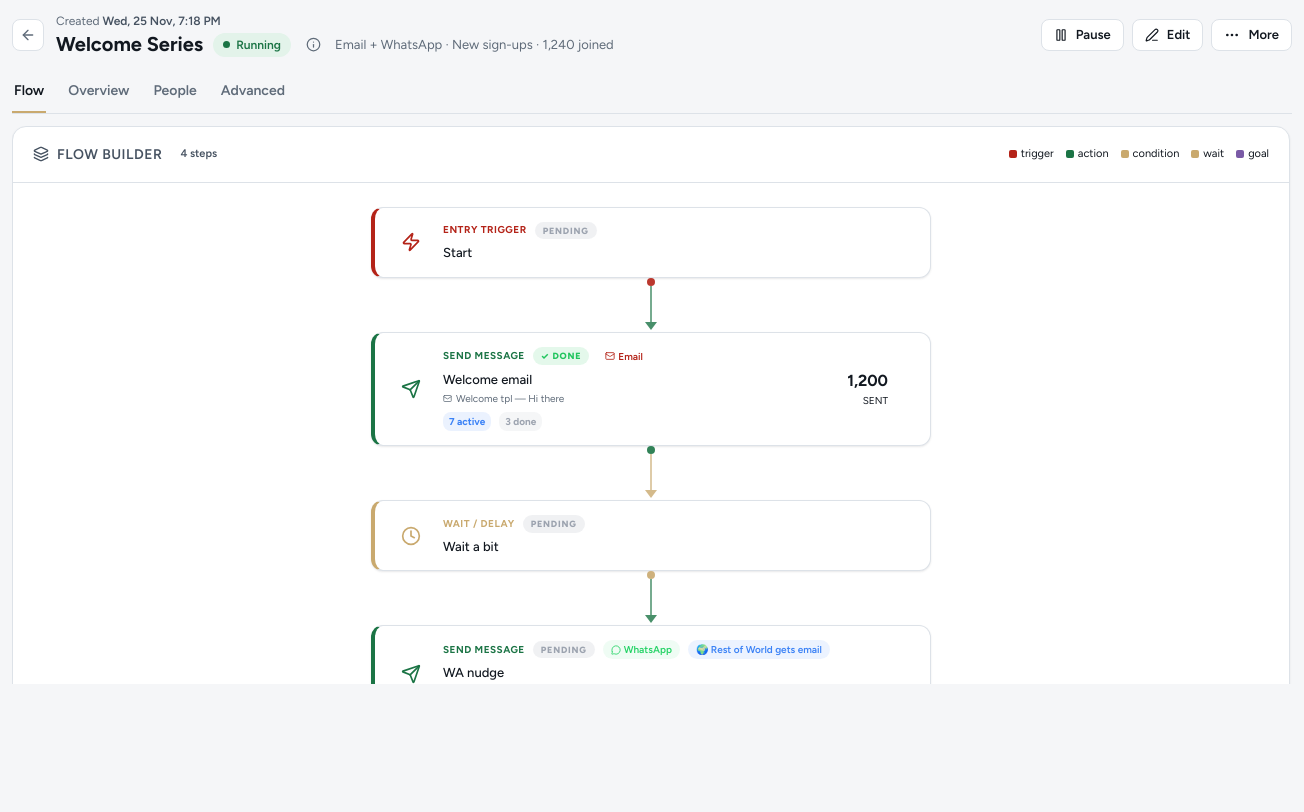
Test: Journey detail › Overview shows 4 KPI tiles from entryStats, with % of joined, and unsubscribed / failed on a thin line
expect the heading "Welcome Series" is shown: met, box x1=56 y1=32 x2=203 y2=57
Click the tab "Overview" at {"x": 99, "y": 91}, box x1=66 y1=69 x2=131 y2=113
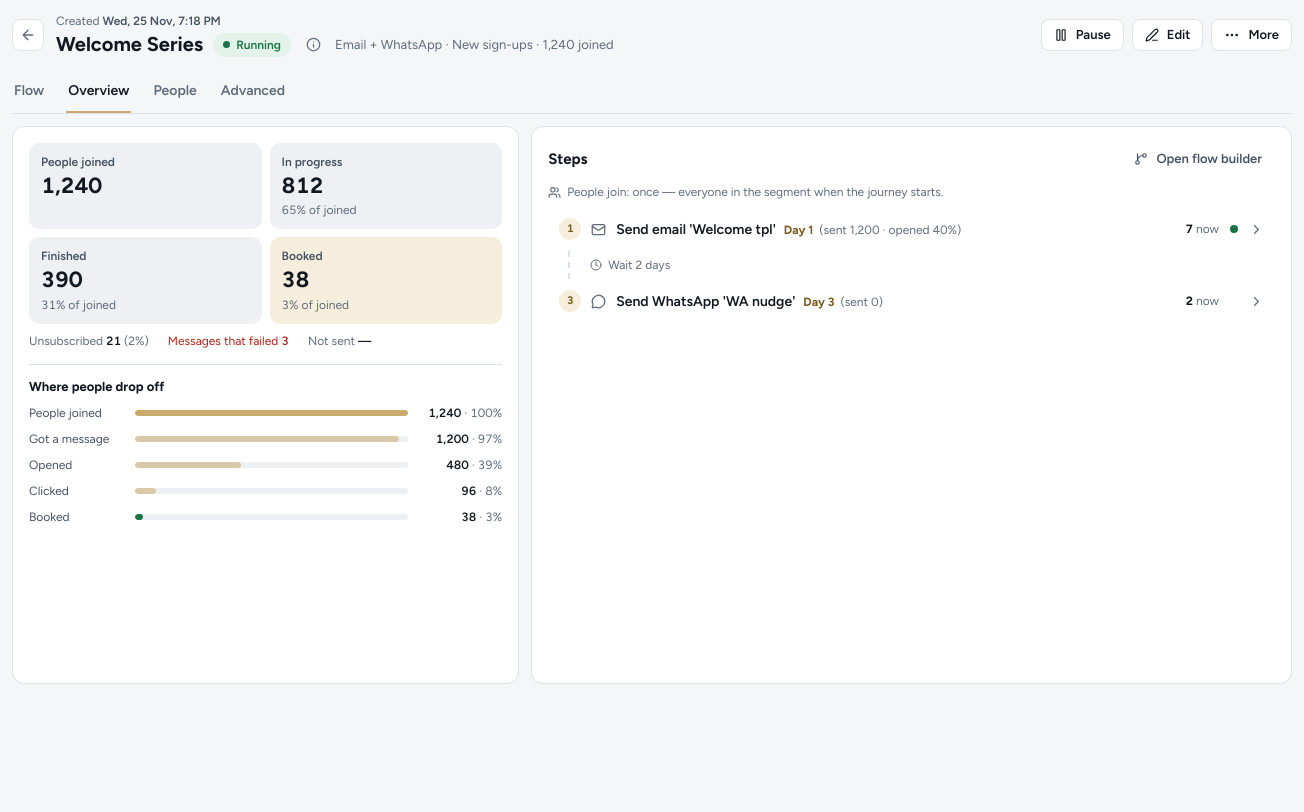
expect the text "1,240" is shown: met, box x1=41 y1=172 x2=102 y2=199
expect the text "812" is shown: met, box x1=282 y1=172 x2=323 y2=199
expect the text "390" is shown: met, box x1=41 y1=266 x2=83 y2=293
